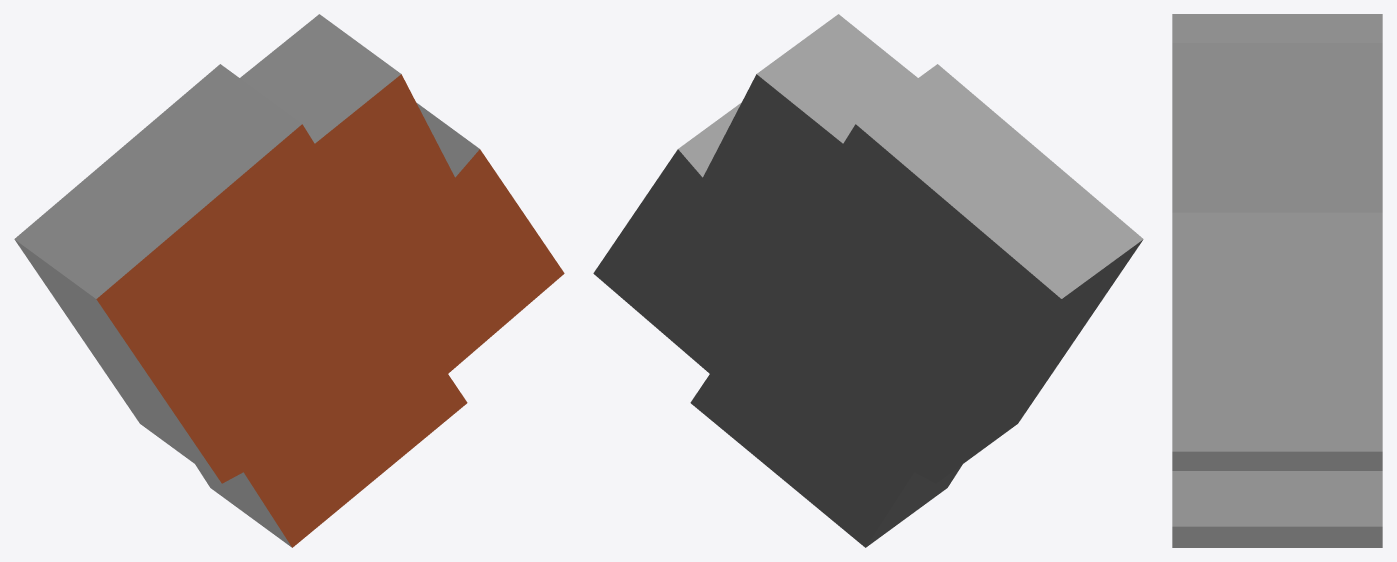
File: construction_5129_assumed_A_Casa_h6m.obj
The picture shows the model from 3 angles, left to right: view 1: azimuth 30°, elevation 25°; view 2: azimuth 150°, elevation 25°; view 3: azimuth 270°, elevation 25°; orthographic projection. The views are drawn at different scales.
Parts seen in each view (by area): view 1: construction_5129_assumed_A_Casa; view 2: construction_5129_assumed_A_Casa; view 3: construction_5129_assumed_A_Casa.
Part boxes in pixels (left/top/right/bottom): construction_5129_assumed_A_Casa: left=14, top=14, right=564, bottom=547; construction_5129_assumed_A_Casa: left=593, top=14, right=1143, bottom=547; construction_5129_assumed_A_Casa: left=1172, top=14, right=1382, bottom=547.
Size of the model in its own units: 19.77 by 18.04 by 6.
